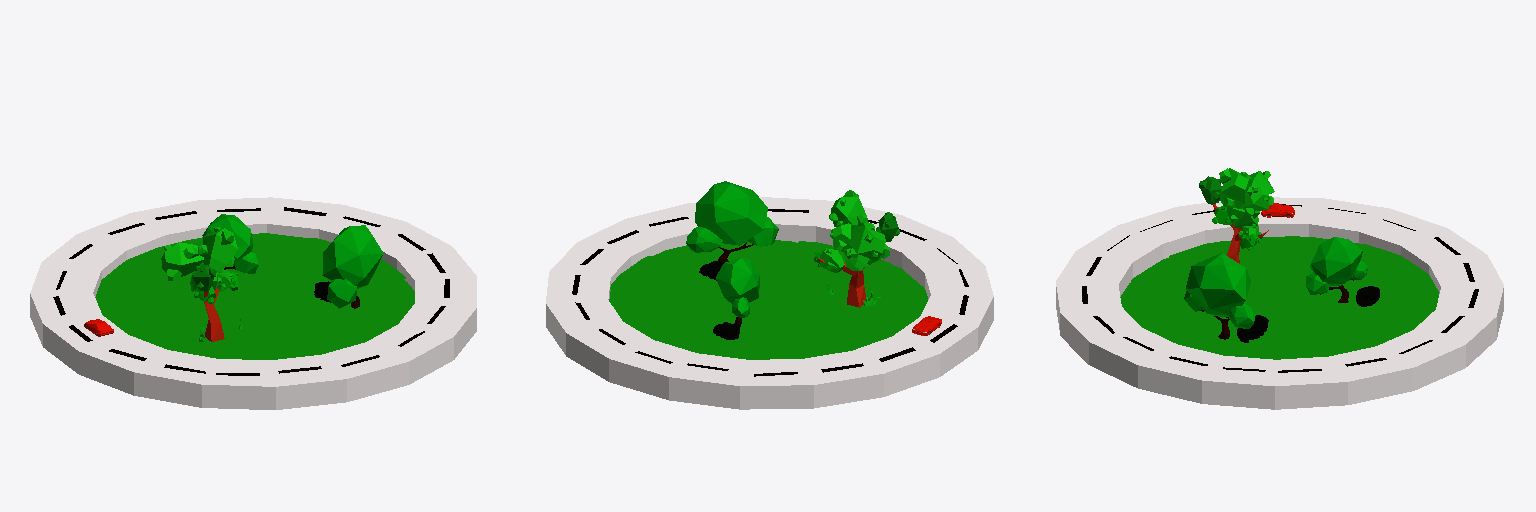
File: final_track1.obj
3 renders of one model, left to right at view 1: azimuth 30°, elevation 25°; view 2: azimuth 150°, elevation 25°; view 3: azimuth 270°, elevation 25°, orthographic.
Parts seen in each view (by area): view 1: Cube.001_Cube.004, Plane.020_Plane.007, Plane.035_Plane.021, yaprak1.001_Icosphere.003, Plane.028_Plane.013, Plane.023_Plane.008, Plane.030_Plane.015, Plane.025_Plane.009, Plane.033_Plane.019, BranchesCBranchesuBranchesbBrancheseBranches.Branches0Branc.004_, Plane.026_Plane.011, Plane.027_Plane.012 (+7 smaller); view 2: Cube.001_Cube.004, Plane.025_Plane.009, yaprak1.001_Icosphere.003, Plane.020_Plane.007, Plane.028_Plane.013, Plane.036_Plane.023, Plane.030_Plane.015, Plane.035_Plane.021, Plane.033_Plane.019, yaprak1_Icosphere.002, Plane.027_Plane.012, Plane.023_Plane.008 (+7 smaller); view 3: Cube.001_Cube.004, Plane.036_Plane.023, Plane.025_Plane.009, yaprak1.001_Icosphere.003, Plane.030_Plane.015, Plane.020_Plane.007, Plane.035_Plane.021, Plane.028_Plane.013, yaprak1_Icosphere.002, Plane.023_Plane.008, Plane.027_Plane.012, Plane.033_Plane.019 (+5 smaller).
Part boxes in pixels (bbox=[...]): Cube.001_Cube.004: bbox=[30, 197, 476, 409]; Plane.020_Plane.007: bbox=[182, 285, 332, 338]; Plane.035_Plane.021: bbox=[95, 257, 194, 312]; yaprak1.001_Icosphere.003: bbox=[322, 225, 383, 288]; Plane.028_Plane.013: bbox=[144, 320, 273, 359]; Plane.023_Plane.008: bbox=[296, 279, 414, 325]; Plane.030_Plane.015: bbox=[255, 320, 362, 359]; Plane.025_Plane.009: bbox=[268, 252, 405, 300]; Plane.033_Plane.019: bbox=[253, 238, 331, 287]; BranchesCBranchesuBranchesbBrancheseBranches.Branches0Branc.004_: bbox=[198, 227, 237, 271]; Plane.026_Plane.011: bbox=[97, 298, 189, 327]; Plane.027_Plane.012: bbox=[120, 312, 201, 340]; Cube.001_Cube.004: bbox=[546, 197, 993, 409]; Plane.025_Plane.009: bbox=[610, 256, 720, 310]; yaprak1.001_Icosphere.003: bbox=[695, 181, 767, 245]; Plane.020_Plane.007: bbox=[712, 270, 837, 327]; Plane.028_Plane.013: bbox=[814, 275, 927, 327]; Plane.036_Plane.023: bbox=[625, 313, 770, 357]; Plane.030_Plane.015: bbox=[760, 241, 892, 288]; Plane.035_Plane.021: bbox=[734, 320, 857, 359]; Plane.033_Plane.019: bbox=[609, 290, 718, 327]; yaprak1_Icosphere.002: bbox=[716, 258, 759, 303]; Plane.027_Plane.012: bbox=[820, 313, 903, 340]; Plane.023_Plane.008: bbox=[653, 245, 771, 269]; Cube.001_Cube.004: bbox=[1056, 197, 1503, 409]; Plane.036_Plane.023: bbox=[1338, 285, 1430, 342]; Plane.025_Plane.009: bbox=[1249, 319, 1341, 359]; yaprak1.001_Icosphere.003: bbox=[1186, 253, 1250, 316]; Plane.030_Plane.015: bbox=[1120, 283, 1210, 328]; Plane.020_Plane.007: bbox=[1211, 274, 1303, 322]; Plane.035_Plane.021: bbox=[1329, 244, 1420, 302]; Plane.028_Plane.013: bbox=[1169, 241, 1261, 287]; yaprak1_Icosphere.002: bbox=[1310, 237, 1362, 285]; Plane.023_Plane.008: bbox=[1190, 322, 1248, 357]; Plane.027_Plane.012: bbox=[1231, 236, 1299, 274]; Plane.033_Plane.019: bbox=[1342, 322, 1382, 353].
Size of the model in its own units: 34.68 by 10.13 by 34.74.